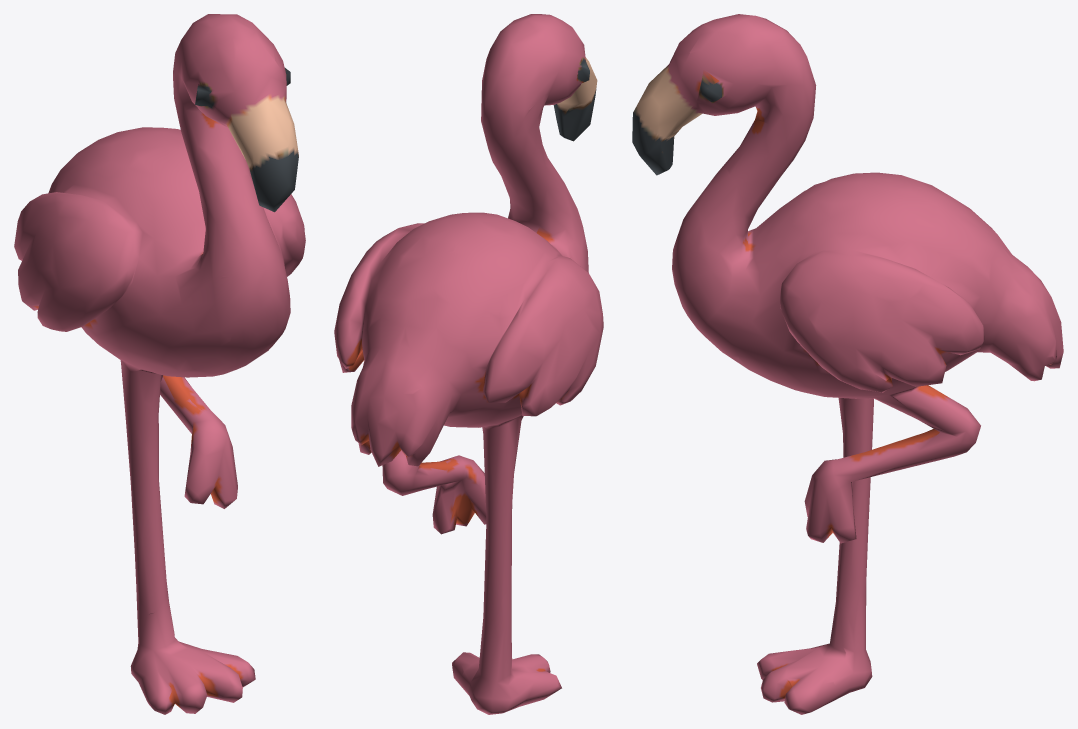
File: f-flamingo.glb
The picture shows the model from 3 angles, left to right: view 1: azimuth 30°, elevation 25°; view 2: azimuth 150°, elevation 25°; view 3: azimuth 270°, elevation 25°; orthographic projection. The views are drawn at different scales.
Visible parts, largest first — view 1: tripo_node_63d5d40a-f4cd-411e-a6cb-e0f95883deed; view 2: tripo_node_63d5d40a-f4cd-411e-a6cb-e0f95883deed; view 3: tripo_node_63d5d40a-f4cd-411e-a6cb-e0f95883deed.
Part boxes in pixels (left/top/right/bottom): tripo_node_63d5d40a-f4cd-411e-a6cb-e0f95883deed: left=14, top=14, right=305, bottom=714; tripo_node_63d5d40a-f4cd-411e-a6cb-e0f95883deed: left=334, top=14, right=603, bottom=714; tripo_node_63d5d40a-f4cd-411e-a6cb-e0f95883deed: left=632, top=14, right=1063, bottom=714.
Size of the model in its own units: 0.3704 by 1 by 0.5798.
1 material, 1 textured.
